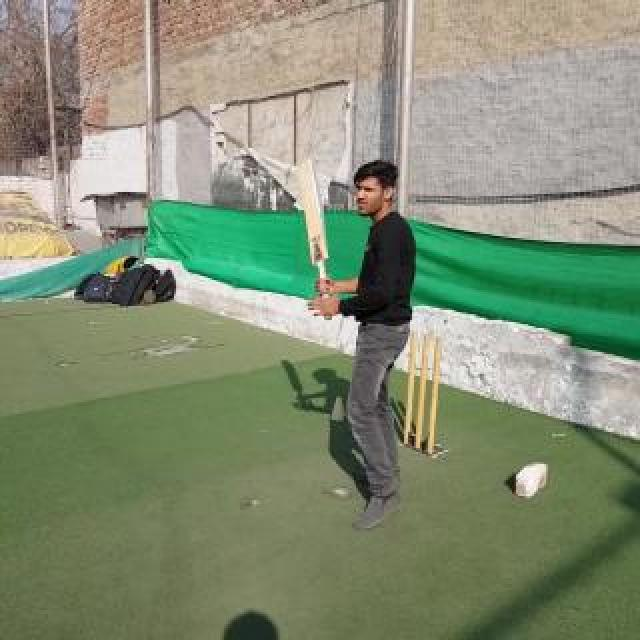bat: (297, 159, 331, 321)
